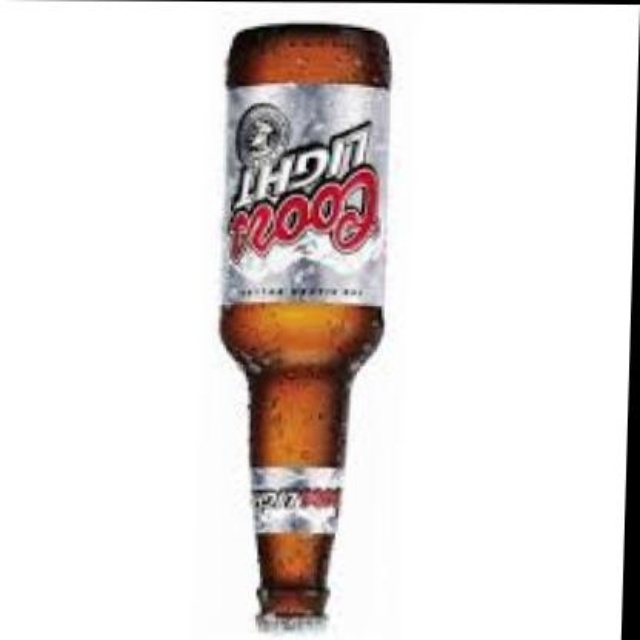trash: (222, 25, 389, 625)
